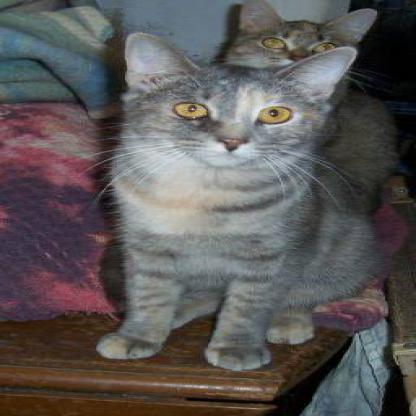cat: (76, 26, 367, 373)
